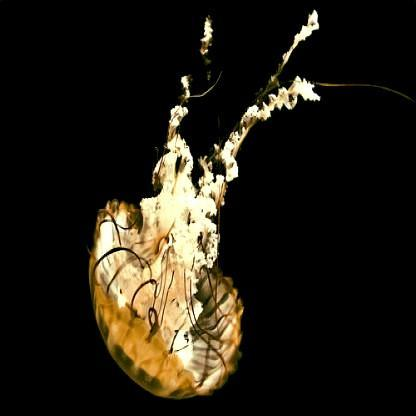Dressed: (88, 14, 321, 398)
